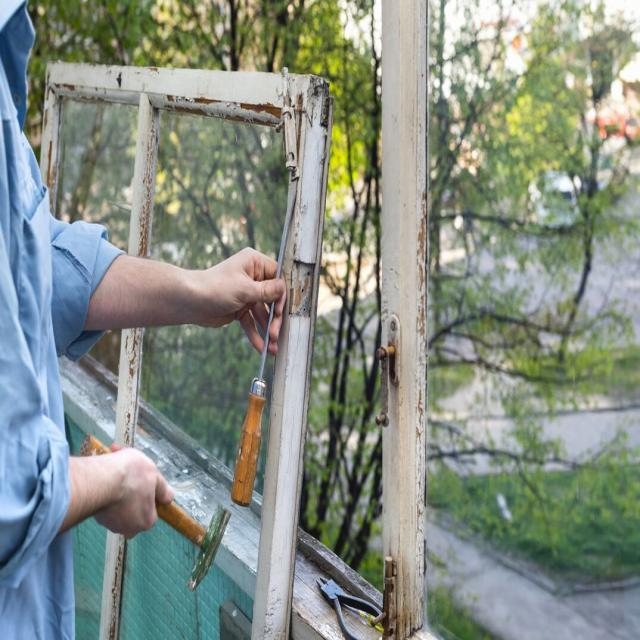screwdriver: (230, 168, 300, 512)
